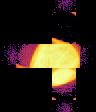earth: (29, 38, 80, 88)
